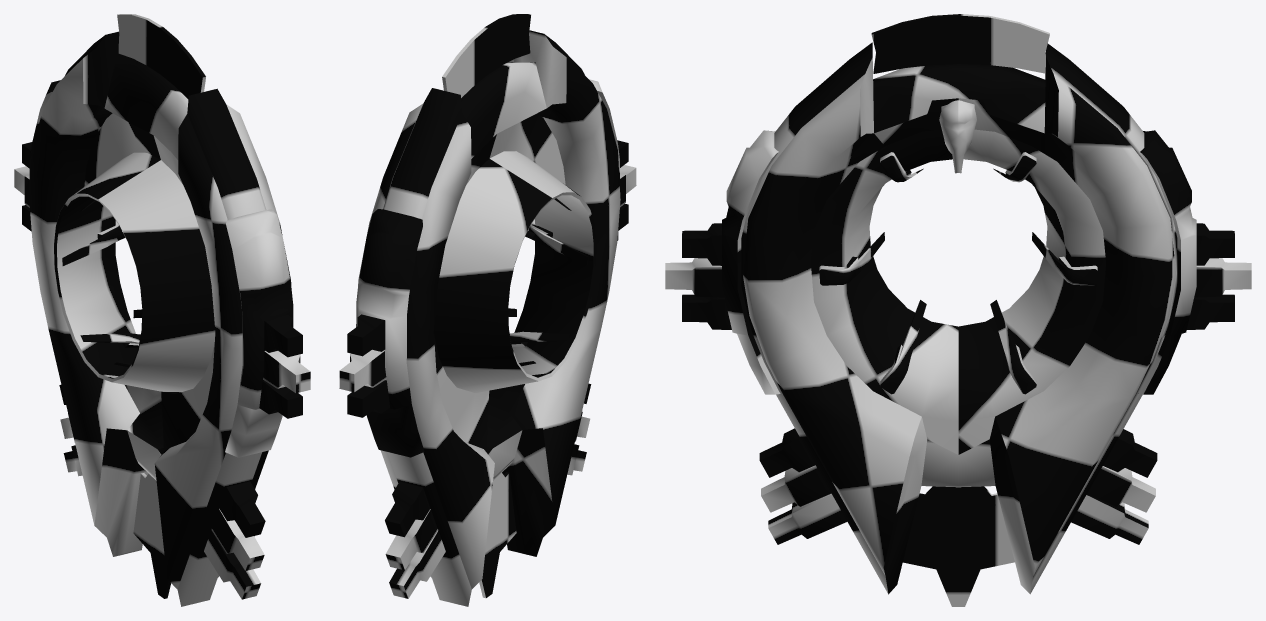
Rendered from eventgate_invasion.obj.
3 views of the same model, side by side, from view 1: azimuth 30°, elevation 25°; view 2: azimuth 150°, elevation 25°; view 3: azimuth 270°, elevation 25° (orthographic). The views are drawn at different scales.
Parts seen in each view (by area): view 1: main; view 2: main; view 3: main.
Part boxes in pixels (x1,y1,x2,y2): main: (14,14,310,606); main: (339,14,636,606); main: (665,14,1251,606).
Bounding box in the file's own units: 112 × 592 × 532.
1 material, 1 textured.
